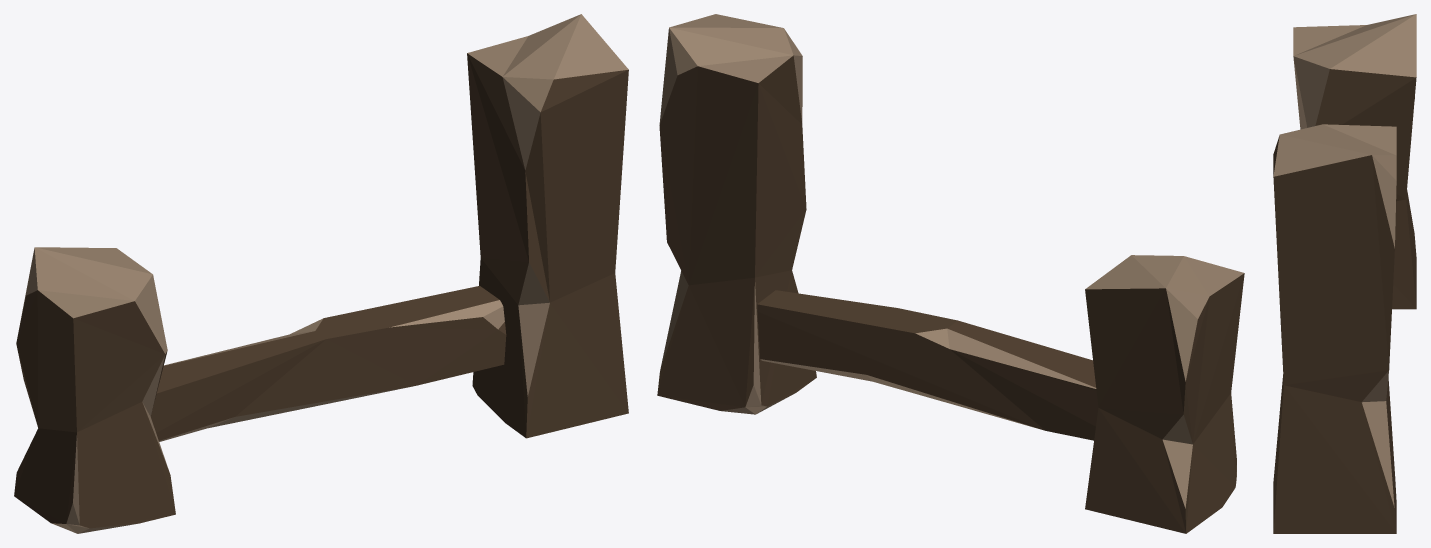
File: Railing_B_03.FBX
The picture shows the model from 3 angles, left to right: view 1: azimuth 30°, elevation 25°; view 2: azimuth 150°, elevation 25°; view 3: azimuth 270°, elevation 25°; orthographic projection. The views are drawn at different scales.
Parts seen in each view (by area): view 1: Railing_B_03; view 2: Railing_B_03; view 3: Railing_B_03.
Part boxes in pixels (<box>): Railing_B_03: <box>14,14,628,533</box>; Railing_B_03: <box>657,14,1244,533</box>; Railing_B_03: <box>1273,14,1416,533</box>.
Size of the model in its own units: 1.79 by 1.14 by 0.3915.
